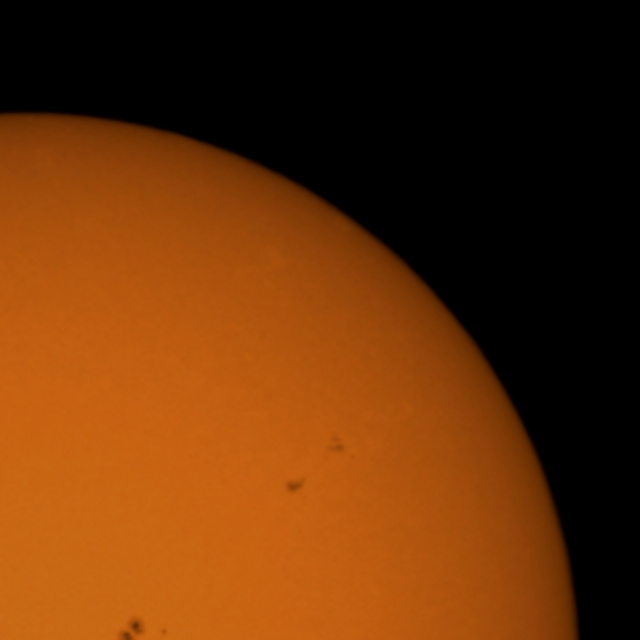sunspot: (128, 616, 172, 640), (114, 616, 149, 640), (325, 433, 350, 458), (283, 474, 308, 496), (159, 626, 170, 638)
